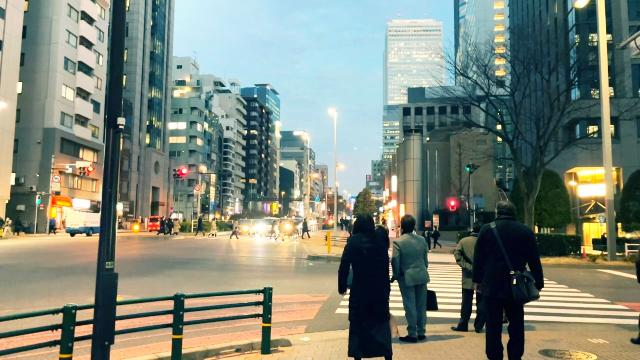berdiri: (464, 198, 548, 360), (395, 208, 433, 348)
berjalan: (338, 211, 396, 360)
